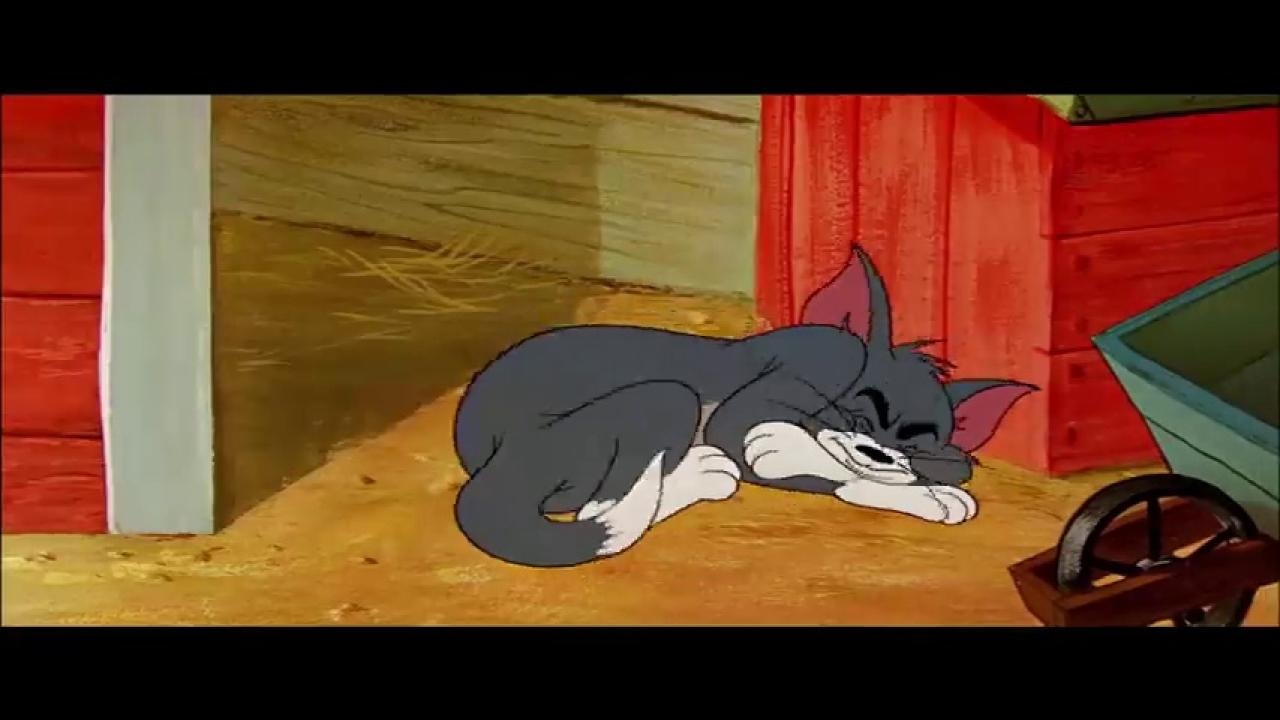Tom: (452, 240, 1043, 571)
